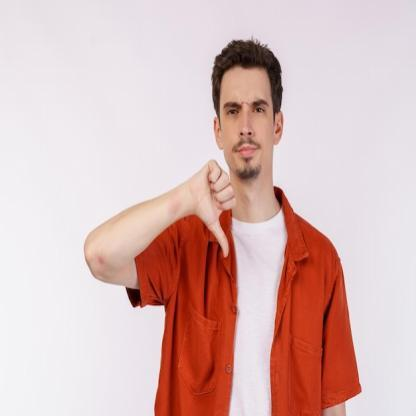thumb_down: (190, 156, 238, 258)
